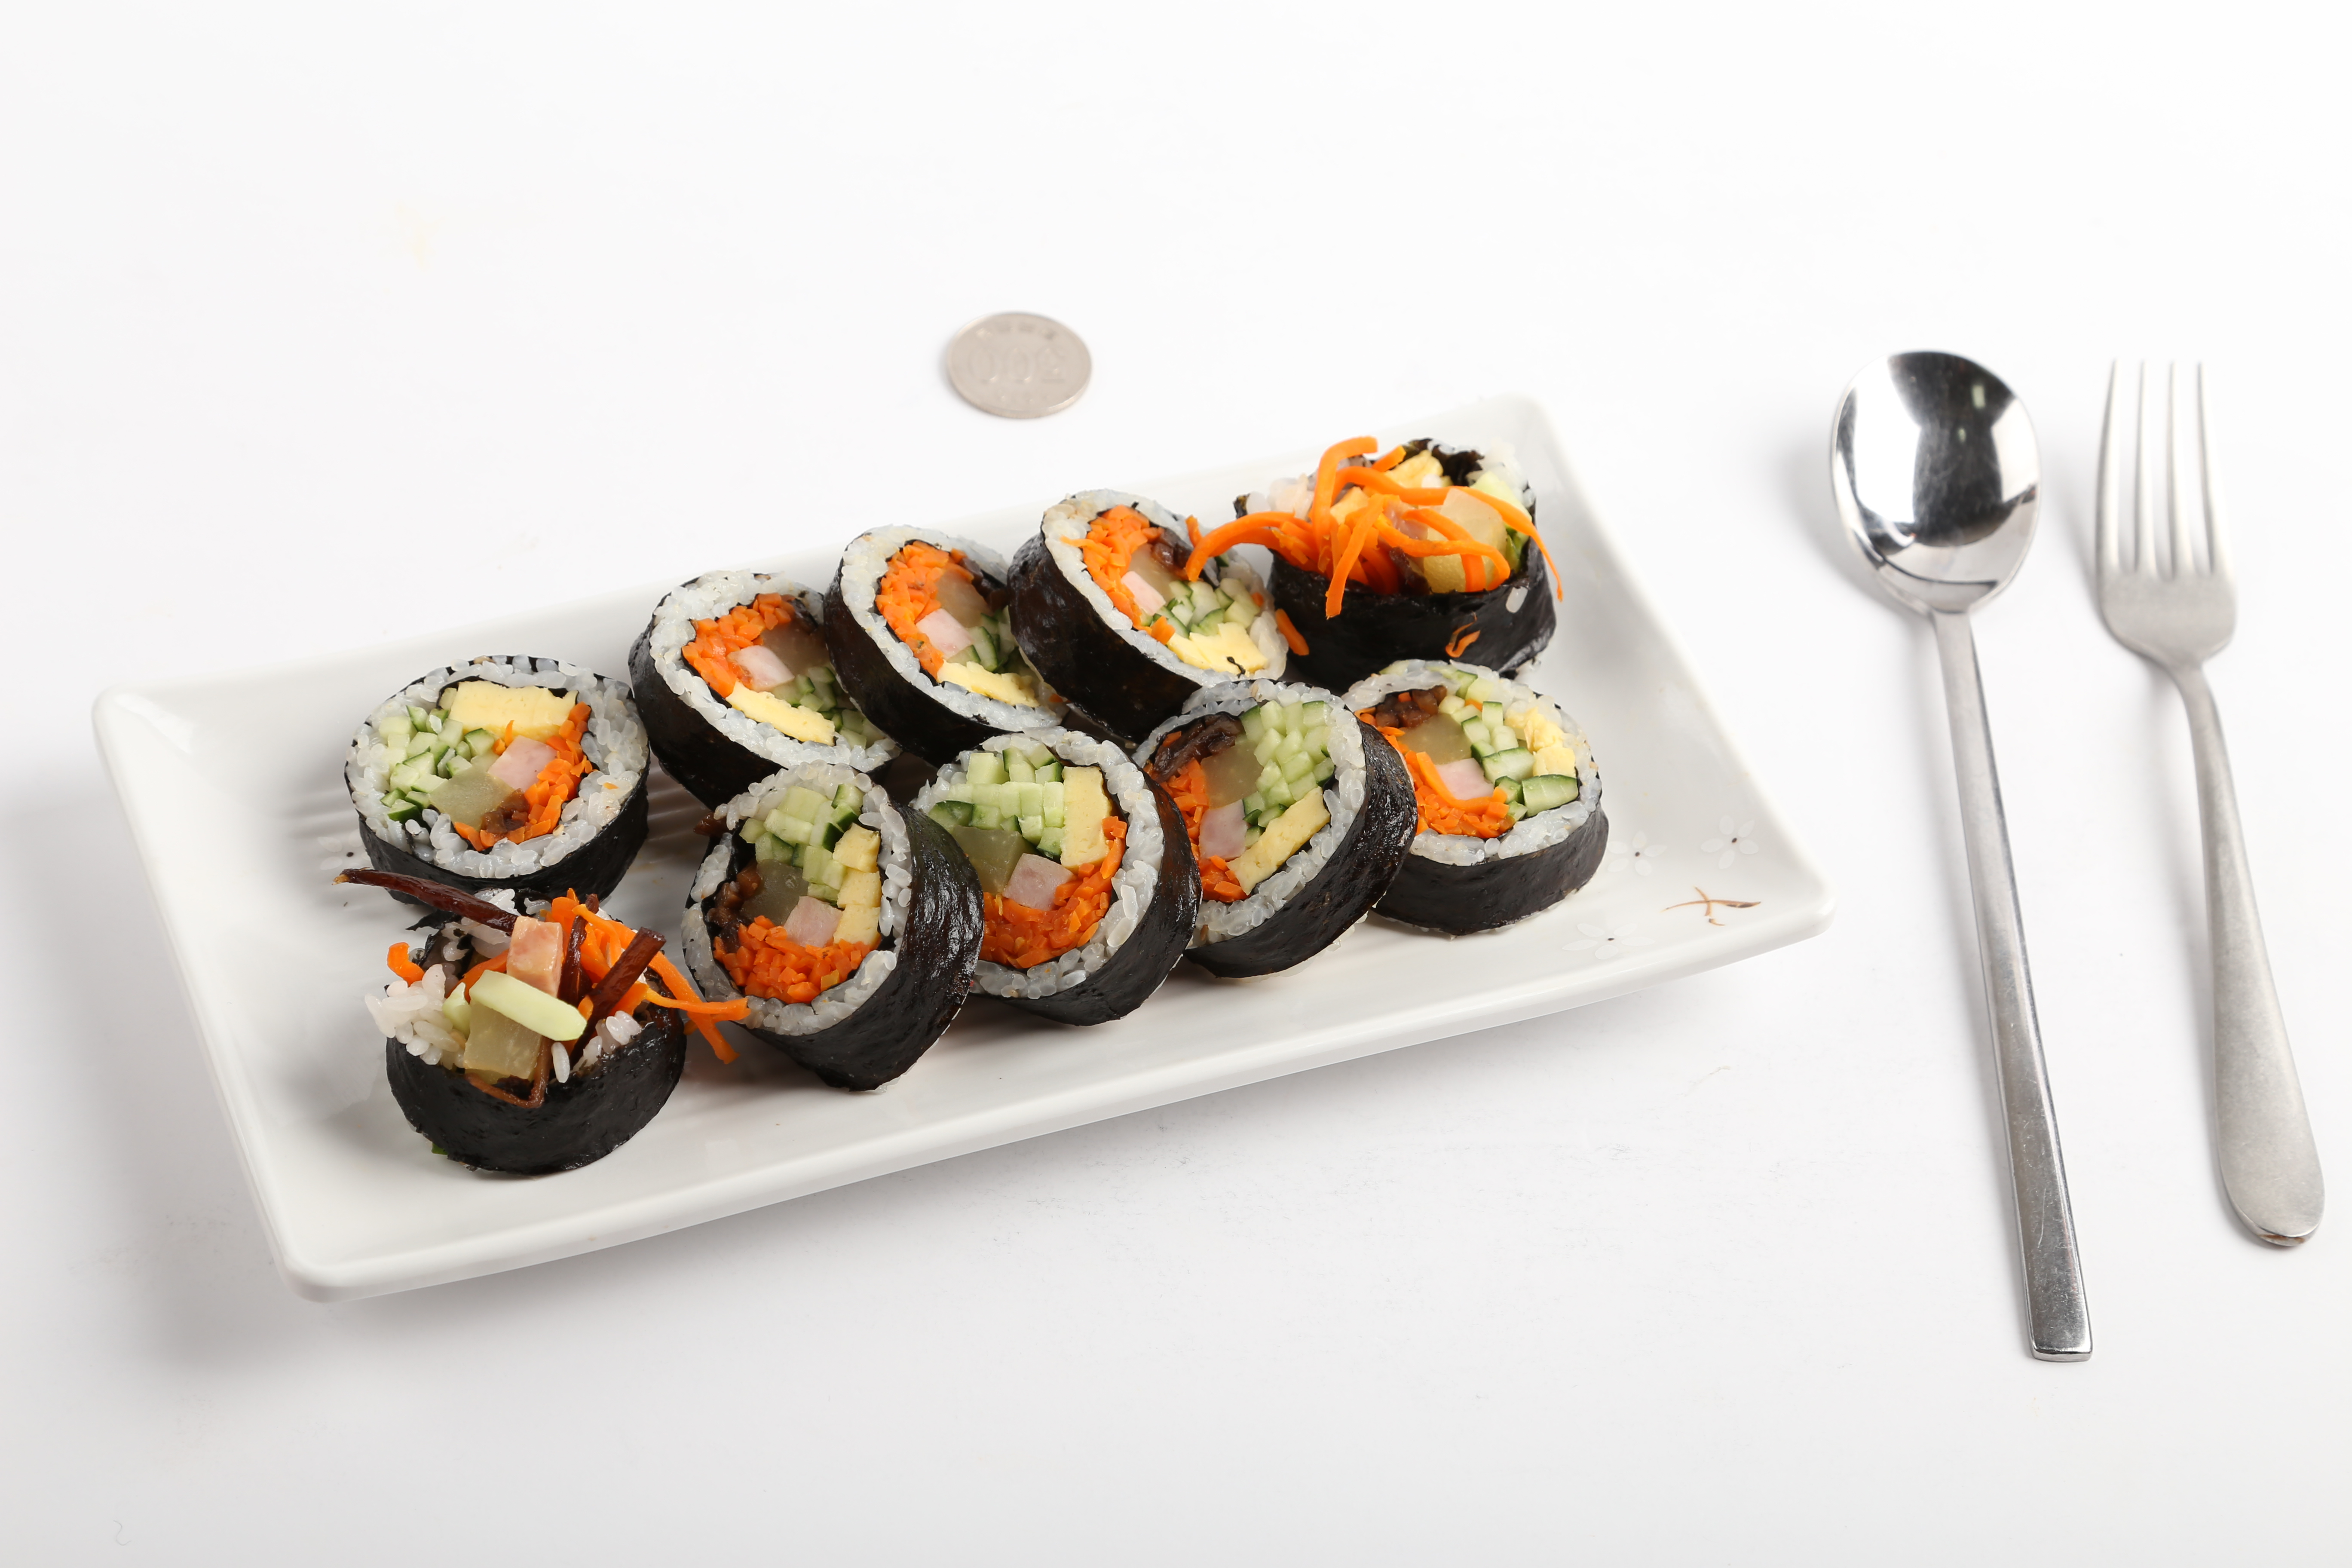dish: (89, 404, 1829, 1309)
ref_coin: (936, 304, 1097, 425)
ref_fork: (2096, 352, 2242, 707)
ref_spoon: (1830, 345, 2046, 670)
김밥: (346, 439, 1612, 1181)
